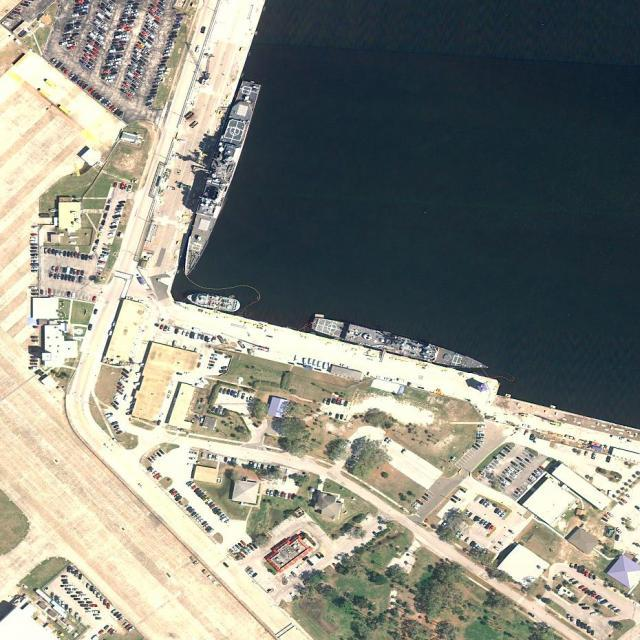Cruiser: (176, 78, 262, 279)
Frigate: (312, 315, 490, 376)
Other Ship: (185, 287, 243, 316)
